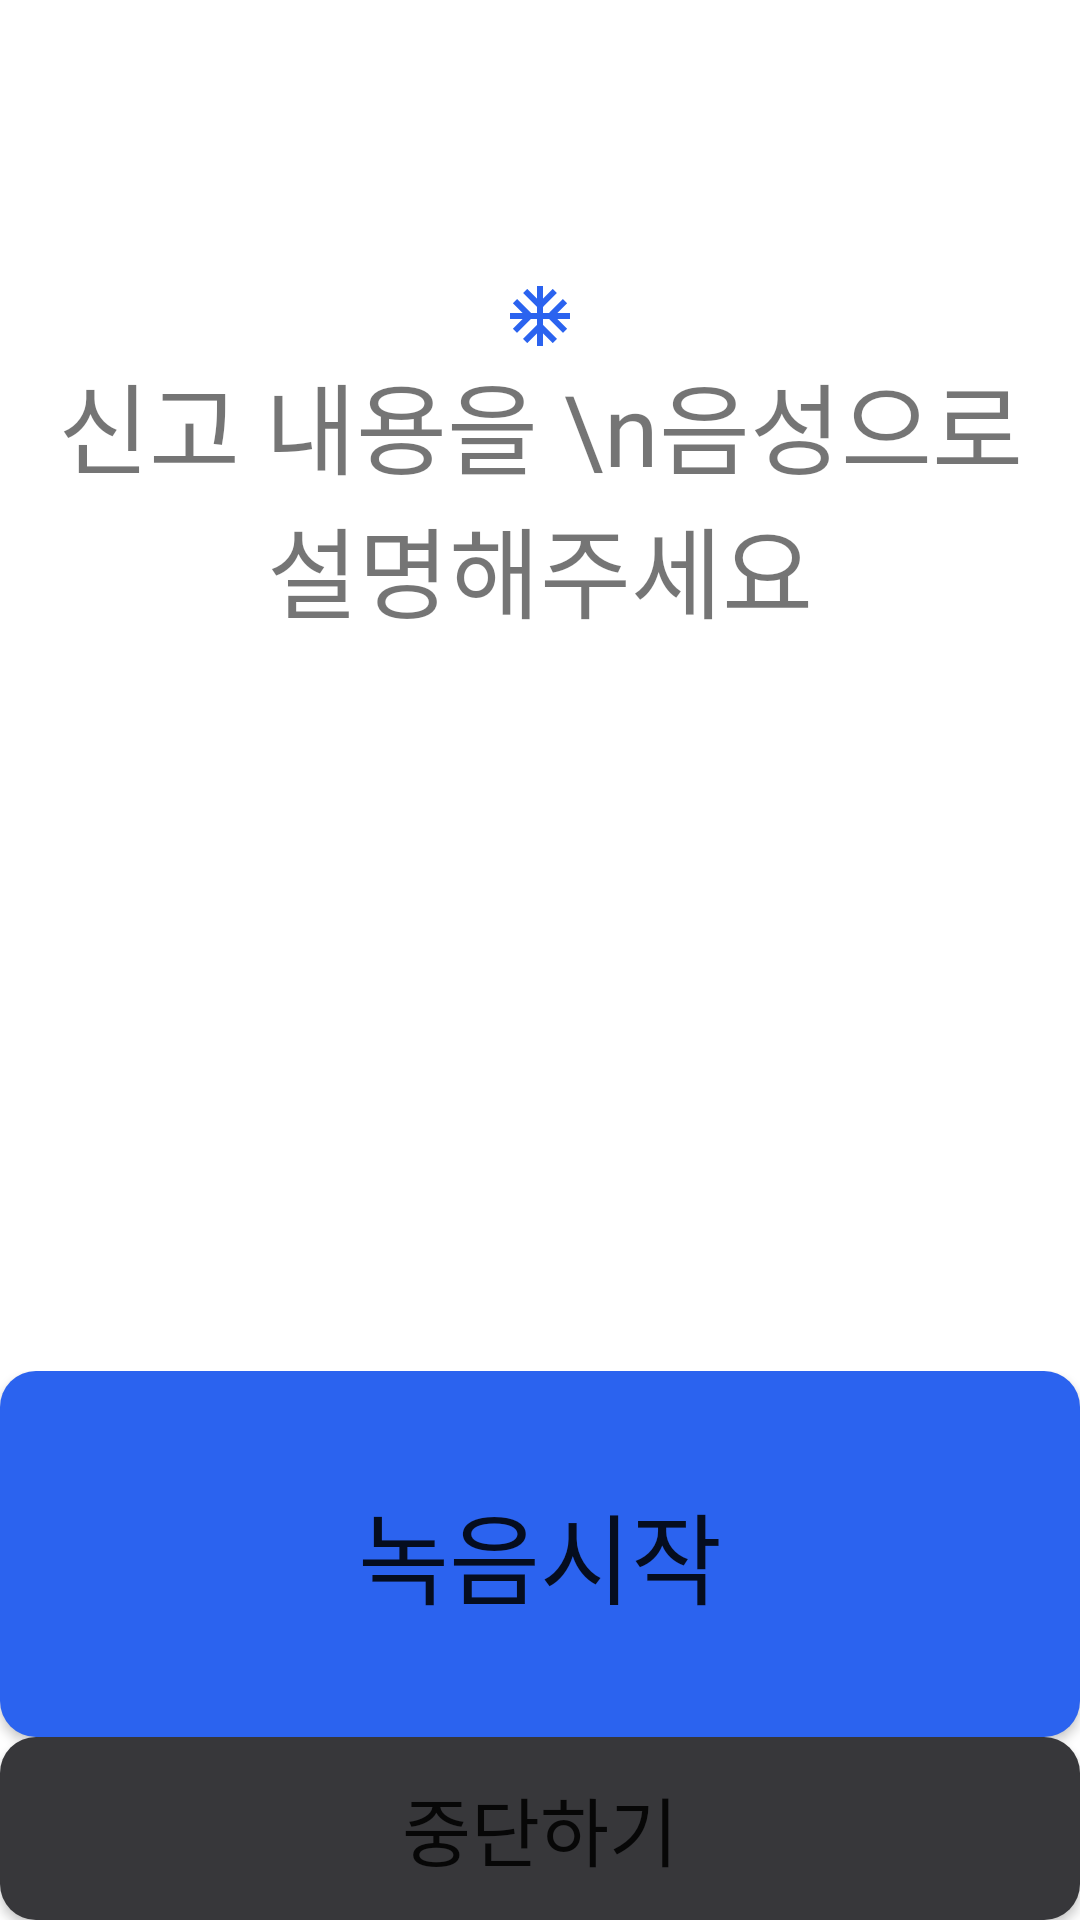

Locate icon controls on the screen. Image size 1080*1920, boxes as (x1, y1, x2, y2).
ac unit: (510, 286, 570, 346)
